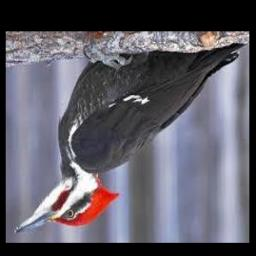Woodpecker: (13, 42, 246, 235)
